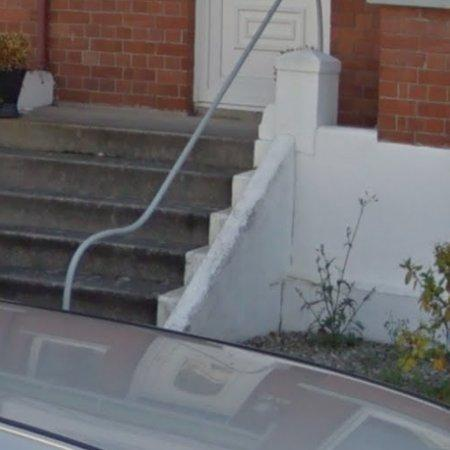stairs: (71, 112, 261, 324)
